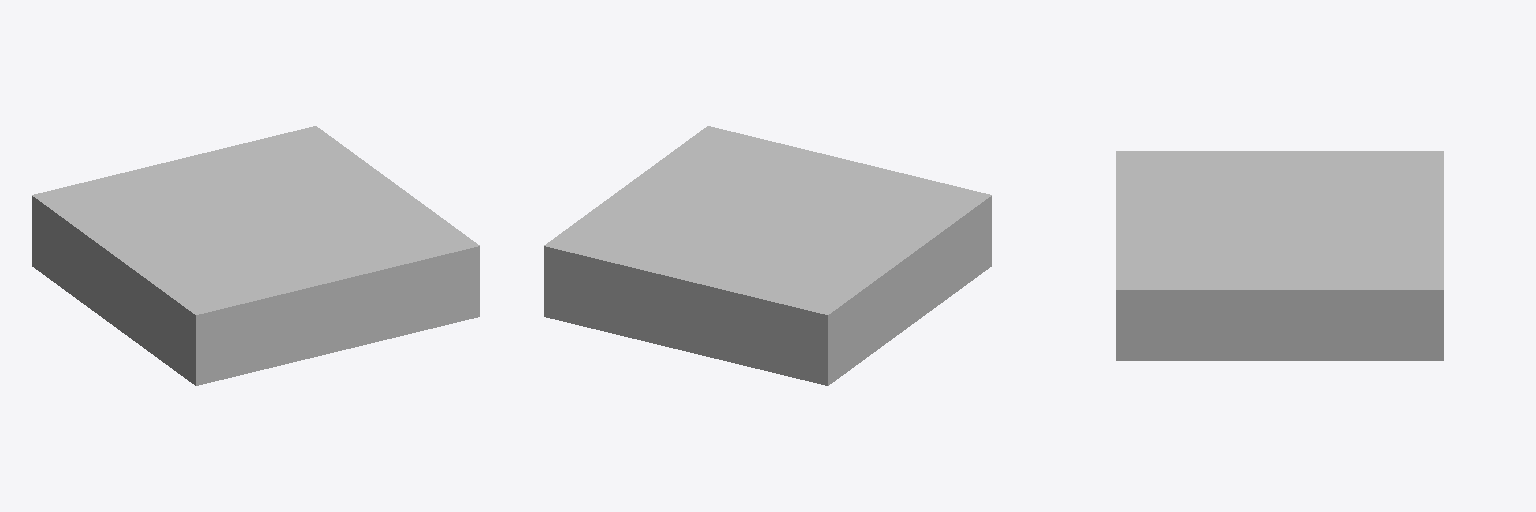
File: Dungeon.obj
3 views of the same model, side by side, from view 1: azimuth 30°, elevation 25°; view 2: azimuth 150°, elevation 25°; view 3: azimuth 270°, elevation 25° (orthographic).
Visible parts, largest first — view 1: Chest2; view 2: Chest2; view 3: Chest2.
Part boxes in pixels (x1,y1,x2,y2): Chest2: (32,126,479,385); Chest2: (544,126,991,385); Chest2: (1116,151,1443,360).
Size of the model in its own units: 80.8 by 19.23 by 80.8.